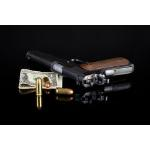Pistol: (24, 49, 136, 87)
